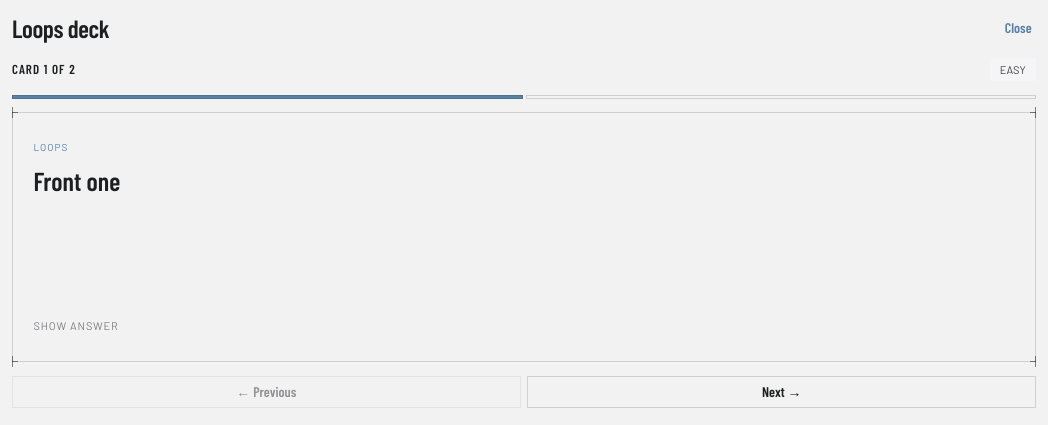
leaves out Jump and the topic when a card has neither, and disables the ends
The width and height of the screenshot is (1048, 425).
Expected: the button "← Previous" is disabled, [12,376,521,408]
Click the button "Next →". click: coordinates (782, 392)
box: [527,376,1036,408]
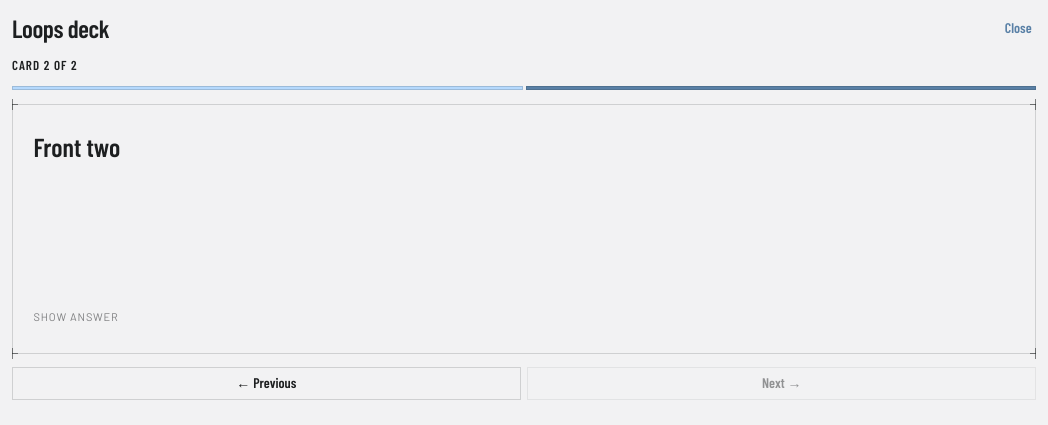
Expected: the button "Next →" is disabled, [527,367,1036,400]
Click the button "Show answer". click: coordinates (76, 317)
box: [33,308,119,326]
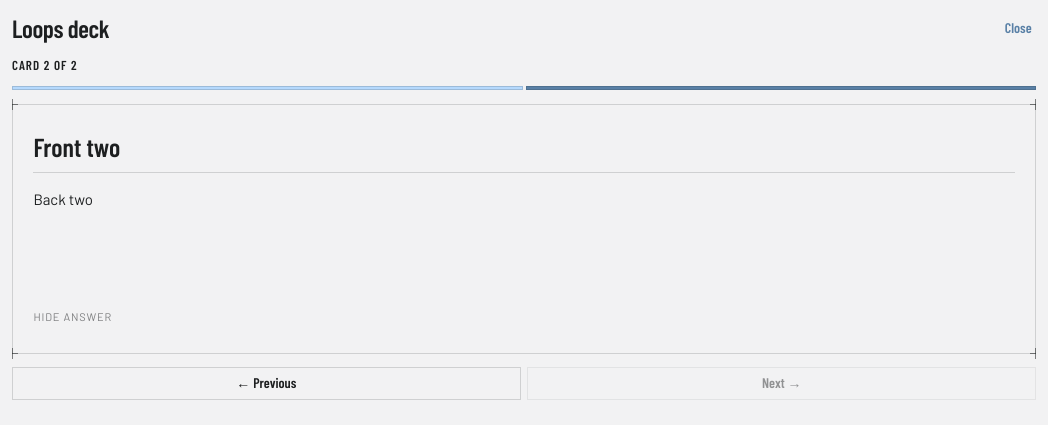
Expected: the text "Back two" is shown, [33,187,93,211]
